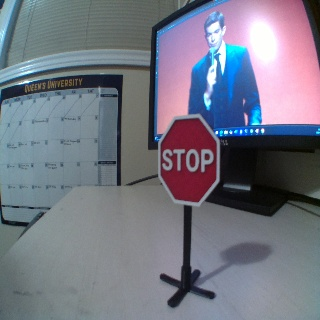sign_stop: (159, 116, 219, 205)
